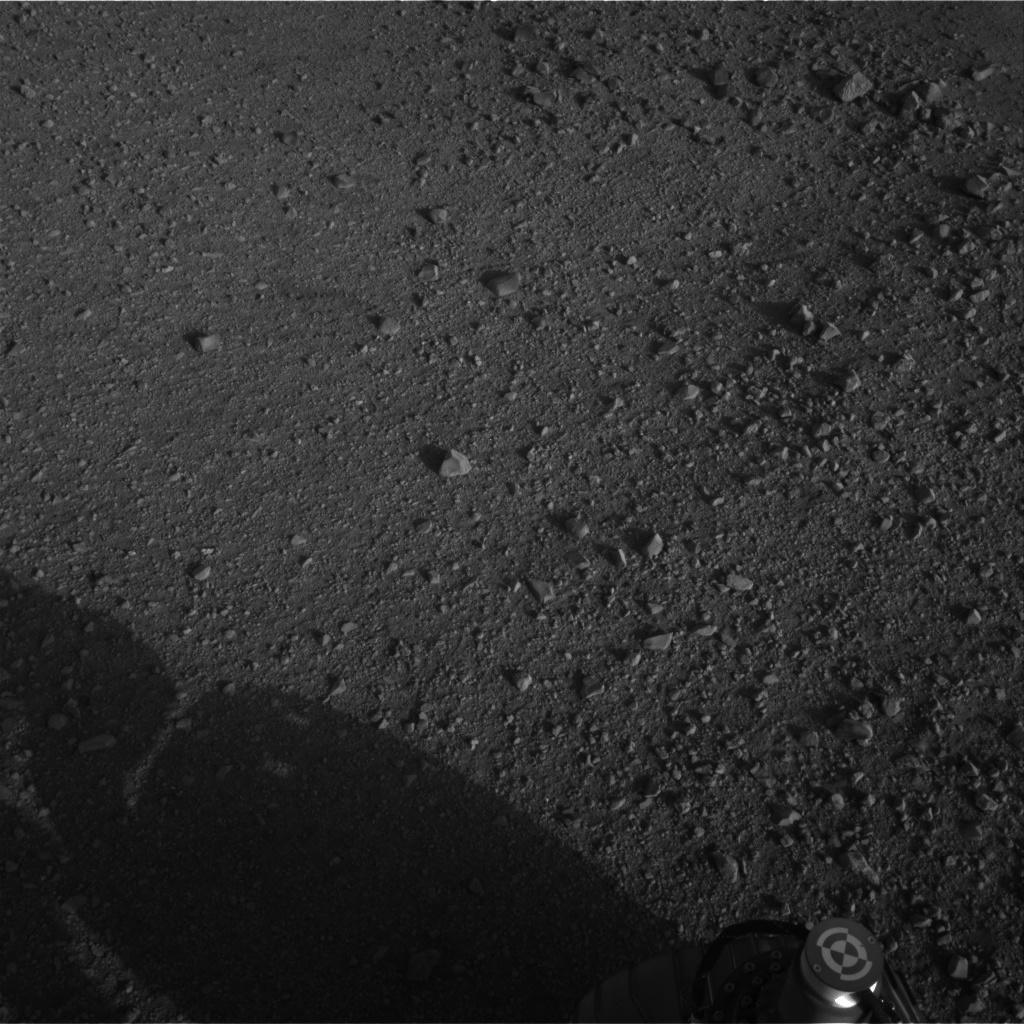soil: (6, 7, 1016, 1016)
